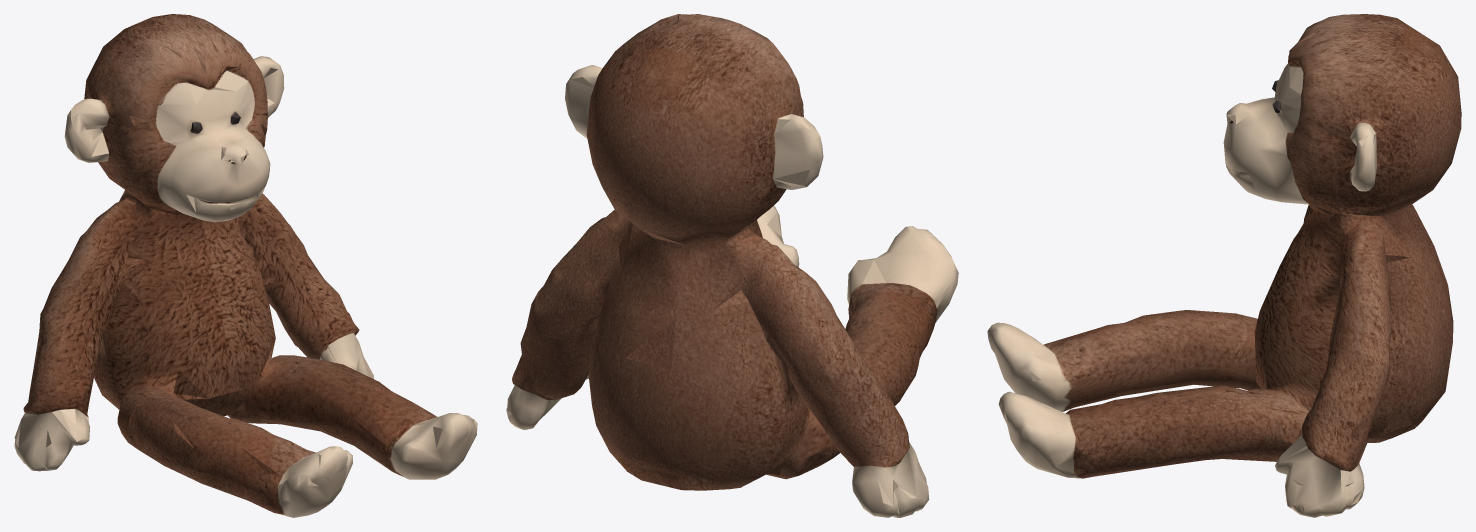
The model's file is PelucheSinge.fbx.
3 views of the same model, side by side, from view 1: azimuth 30°, elevation 25°; view 2: azimuth 150°, elevation 25°; view 3: azimuth 270°, elevation 25° (orthographic). The views are drawn at different scales.
Parts seen in each view (by area): view 1: Mesh_0; view 2: Mesh_0; view 3: Mesh_0.
Part boxes in pixels (x1,y1,x2,y2): Mesh_0: (14,14,477,517); Mesh_0: (506,14,958,517); Mesh_0: (987,14,1461,517).
Size of the model in its own units: 169 by 180 by 190.
Materials: 1 (1 with a texture image).
